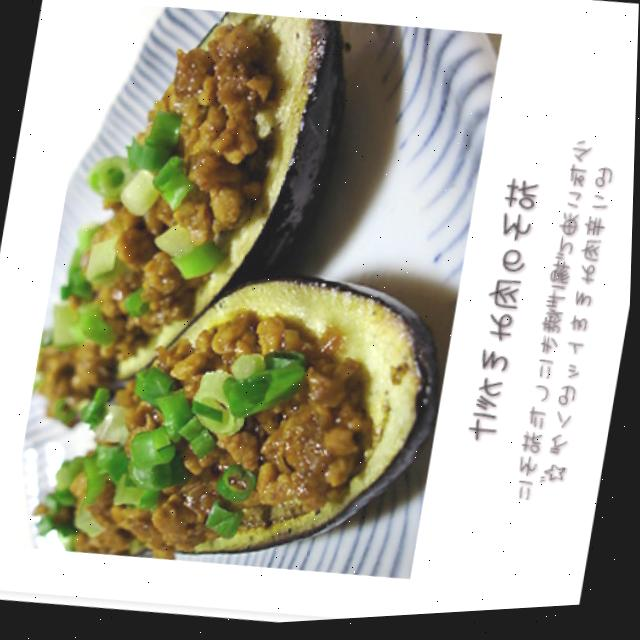鸡蛋料理: (0, 0, 505, 621)
